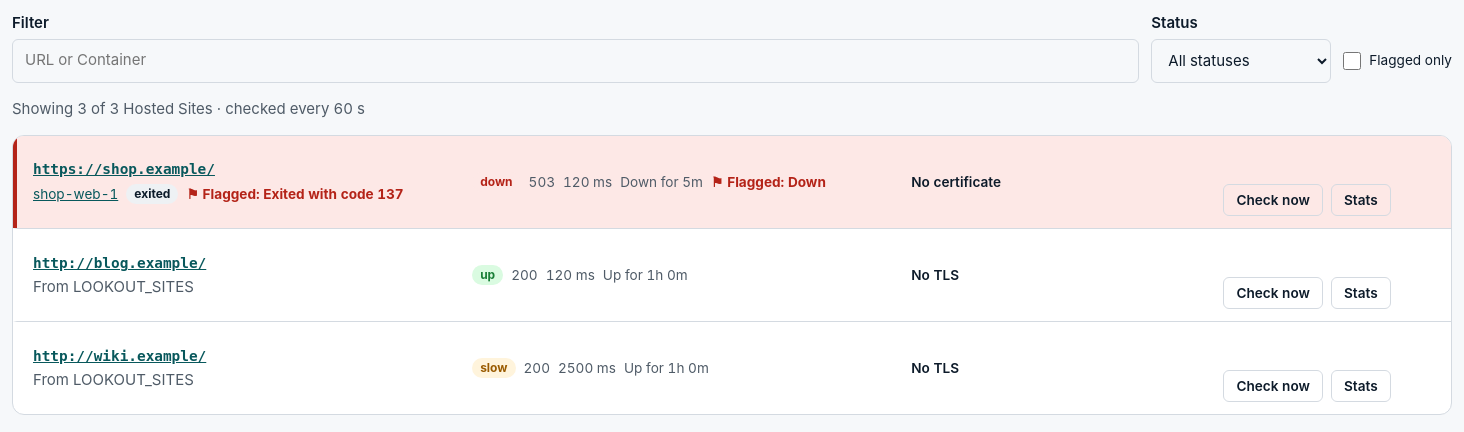
Test: SiteList › filters by text, status and Flagged only
Type "shop-web" into the search field at (576, 60), box x1=12 y1=38 x2=1139 y2=82
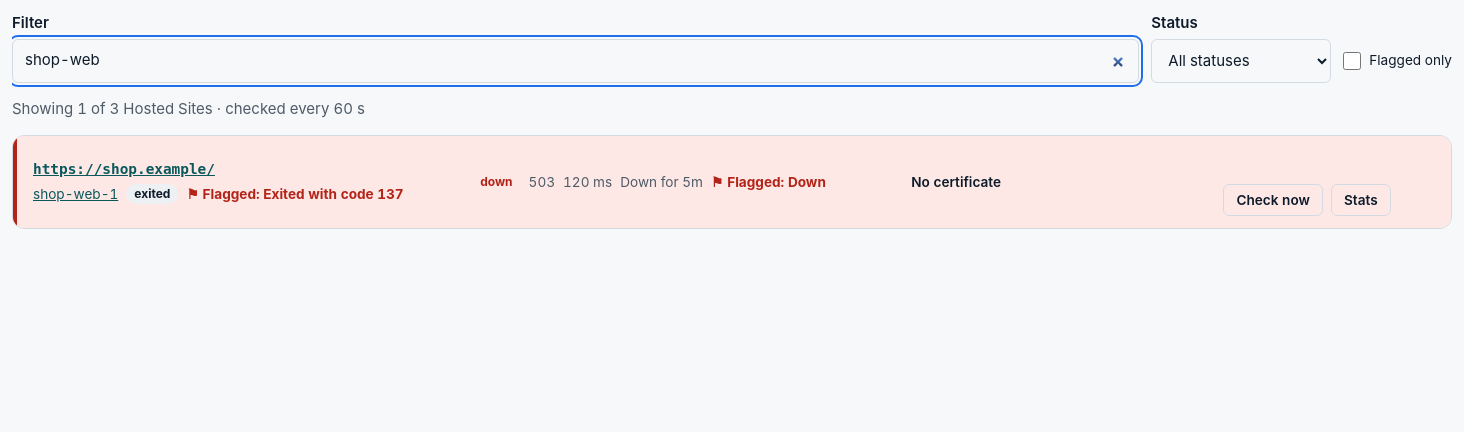
Clear the search field at (576, 60), box x1=12 y1=38 x2=1139 y2=82
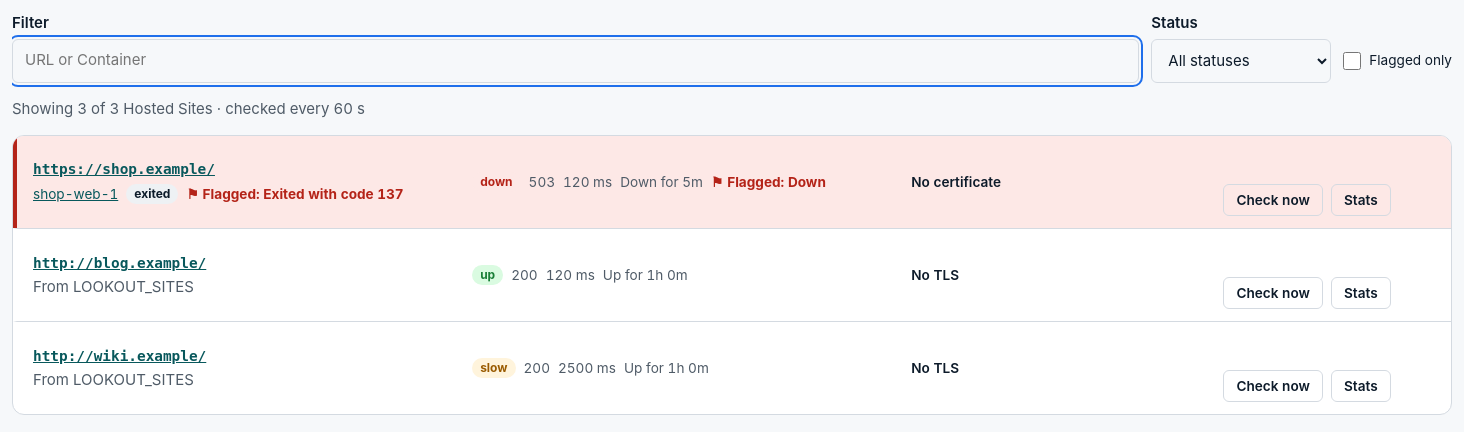
Select "slow" in the dropdown labelled "Status" at (1241, 60), box x1=1151 y1=38 x2=1331 y2=82
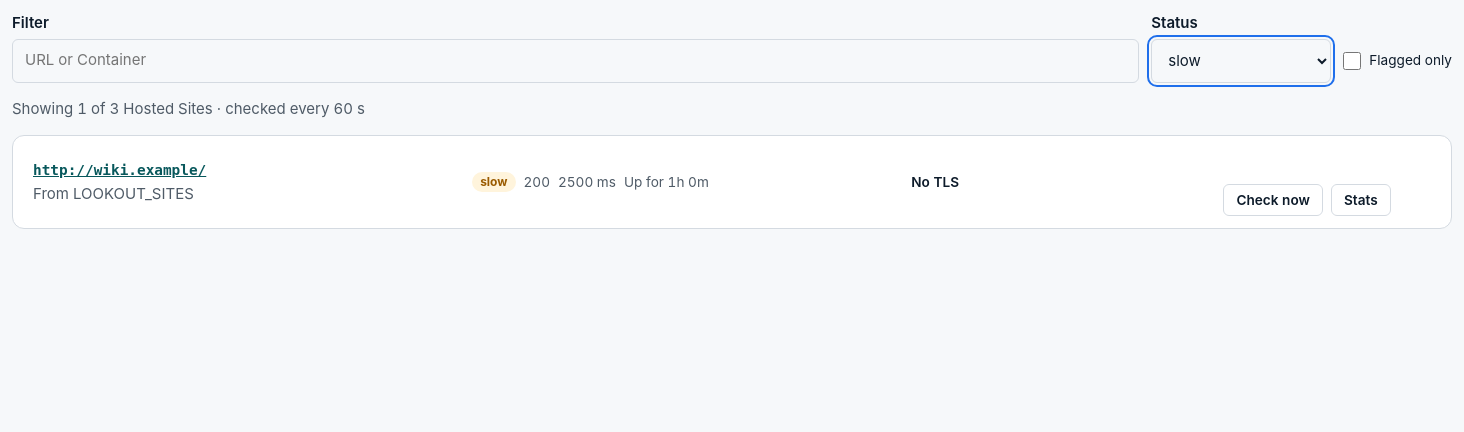
Select "All statuses" in the dropdown labelled "Status" at (1241, 60), box x1=1151 y1=38 x2=1331 y2=82
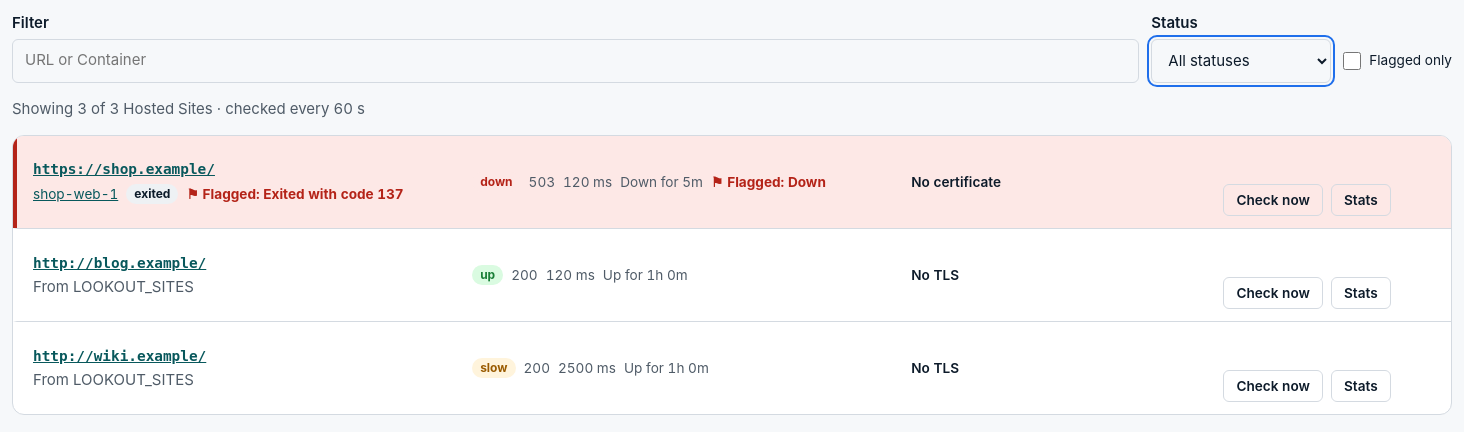
Click the checkbox labelled "Flagged only" at (1352, 60), box x1=1343 y1=52 x2=1361 y2=70
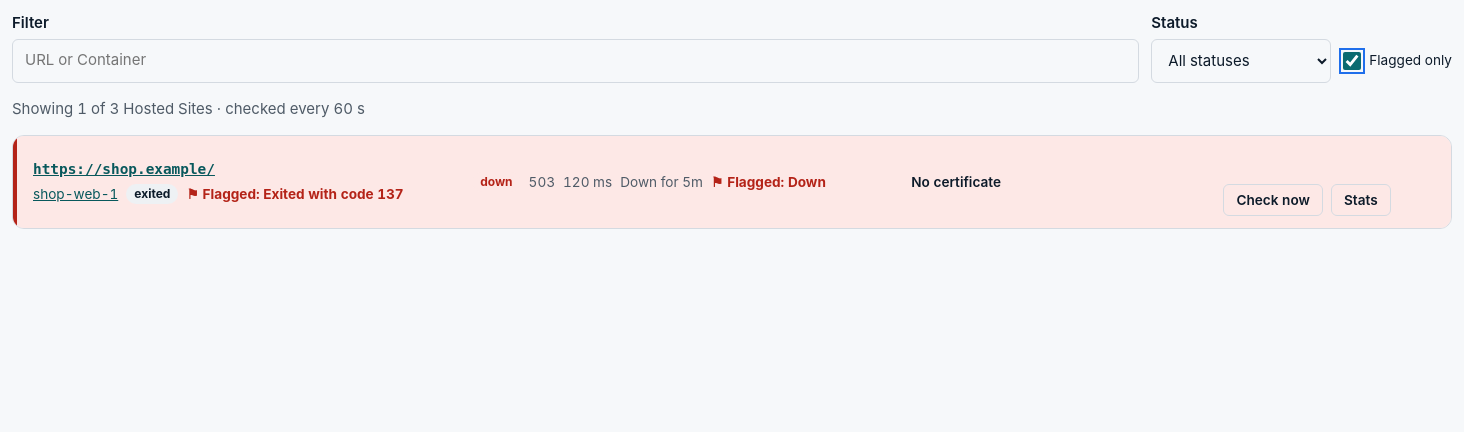
expect the message with test id "site-count" shows "Showing 1 of 3 Hosted Sites": met, box x1=12 y1=98 x2=365 y2=118
